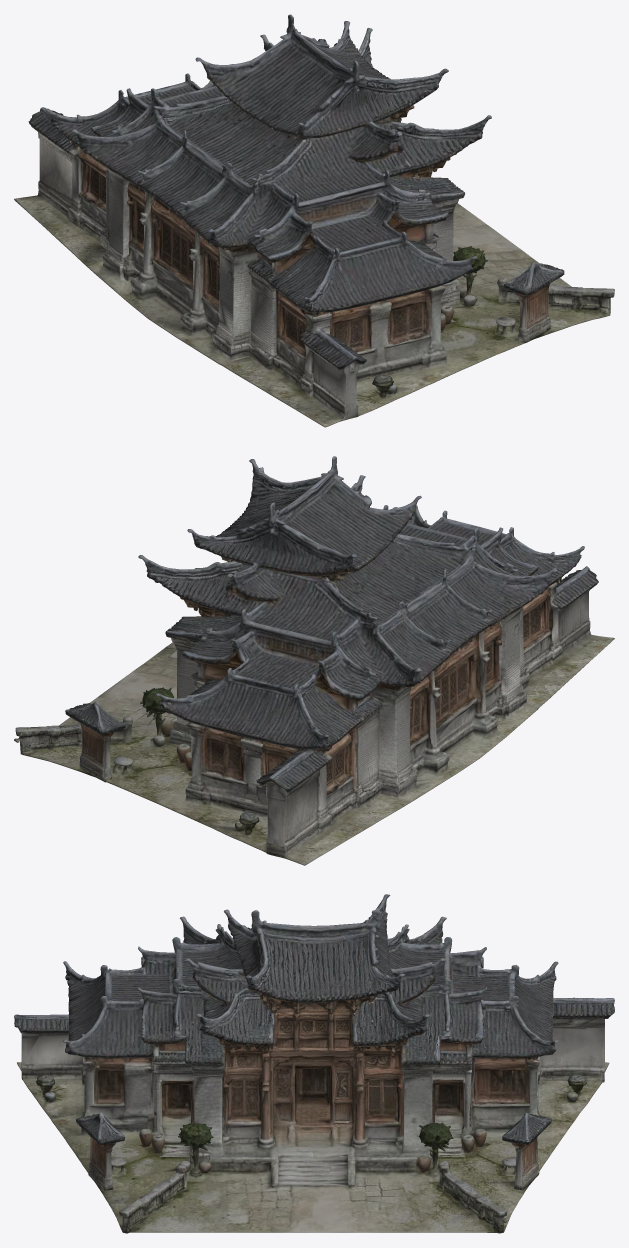
The model's file is granary-c.glb.
3 views of the same model, one above another, from view 1: azimuth 30°, elevation 25°; view 2: azimuth 150°, elevation 25°; view 3: azimuth 270°, elevation 25° (orthographic). The views are drawn at different scales.
Parts seen in each view (by area): view 1: tripo_node_f4416ba2-0a70-49c2-996b-c752cb778b27; view 2: tripo_node_f4416ba2-0a70-49c2-996b-c752cb778b27; view 3: tripo_node_f4416ba2-0a70-49c2-996b-c752cb778b27.
Boxes of the visible parts, <box> form: tripo_node_f4416ba2-0a70-49c2-996b-c752cb778b27: <box>14,14,614,427</box>; tripo_node_f4416ba2-0a70-49c2-996b-c752cb778b27: <box>14,456,614,865</box>; tripo_node_f4416ba2-0a70-49c2-996b-c752cb778b27: <box>14,894,614,1233</box>.
Bounding box in the file's own units: 0.6902 × 0.4348 × 0.9999.
1 material, 1 textured.
